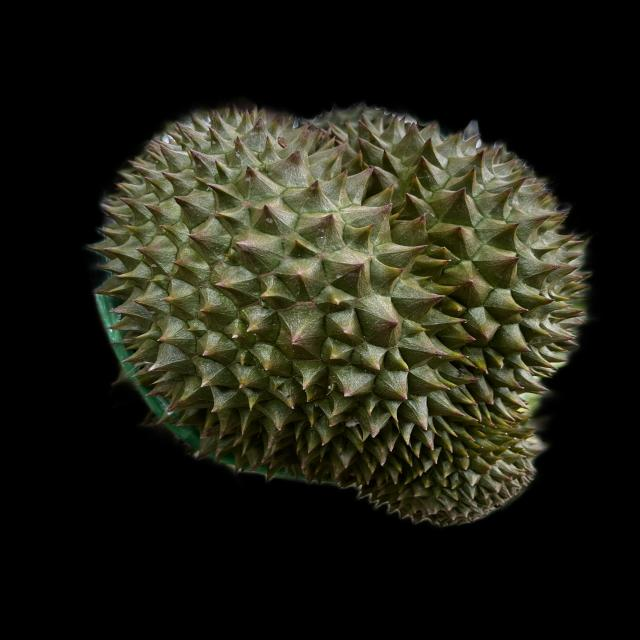immature: (101, 93, 586, 519)
